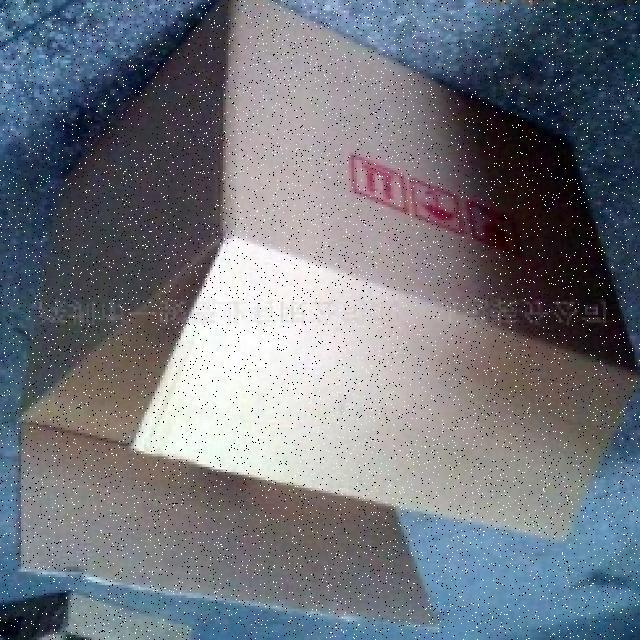box: (0, 0, 624, 604)
